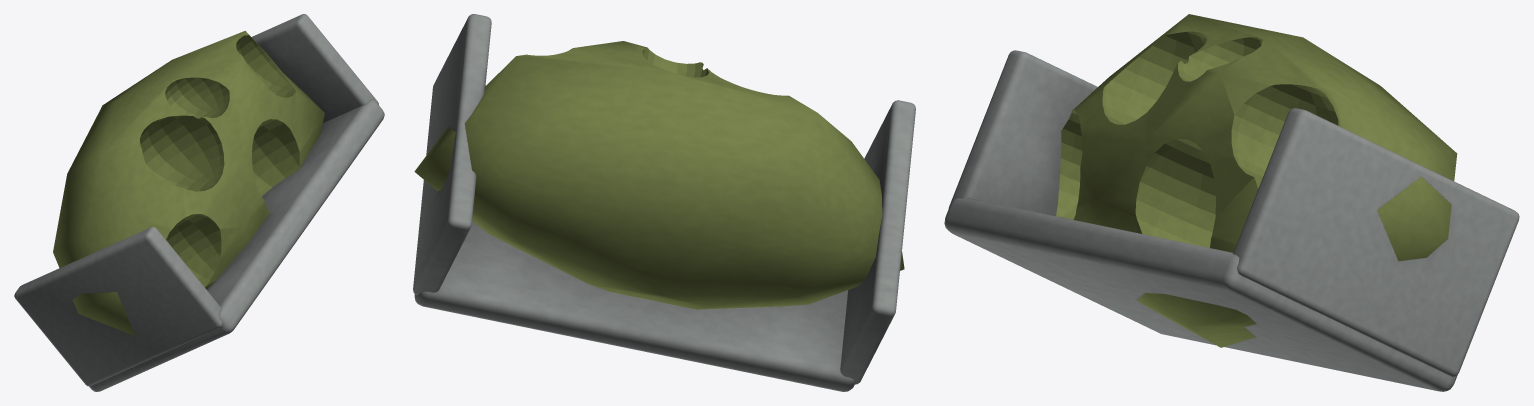
The picture shows the model from 3 angles, left to right: view 1: azimuth 30°, elevation 25°; view 2: azimuth 150°, elevation 25°; view 3: azimuth 270°, elevation 25°; orthographic projection. The views are drawn at different scales.
Visible parts, largest first — view 1: Irregular porous ionic crust; view 2: Irregular porous ionic crust; view 3: Irregular porous ionic crust.
Part boxes in pixels (x1,y1,x2,y2): Irregular porous ionic crust: (14, 14, 384, 391); Irregular porous ionic crust: (413, 14, 915, 391); Irregular porous ionic crust: (944, 14, 1519, 391).
Bounding box in the file's own units: 1.27 × 0.9132 × 1.19.
1 material, 1 textured.
